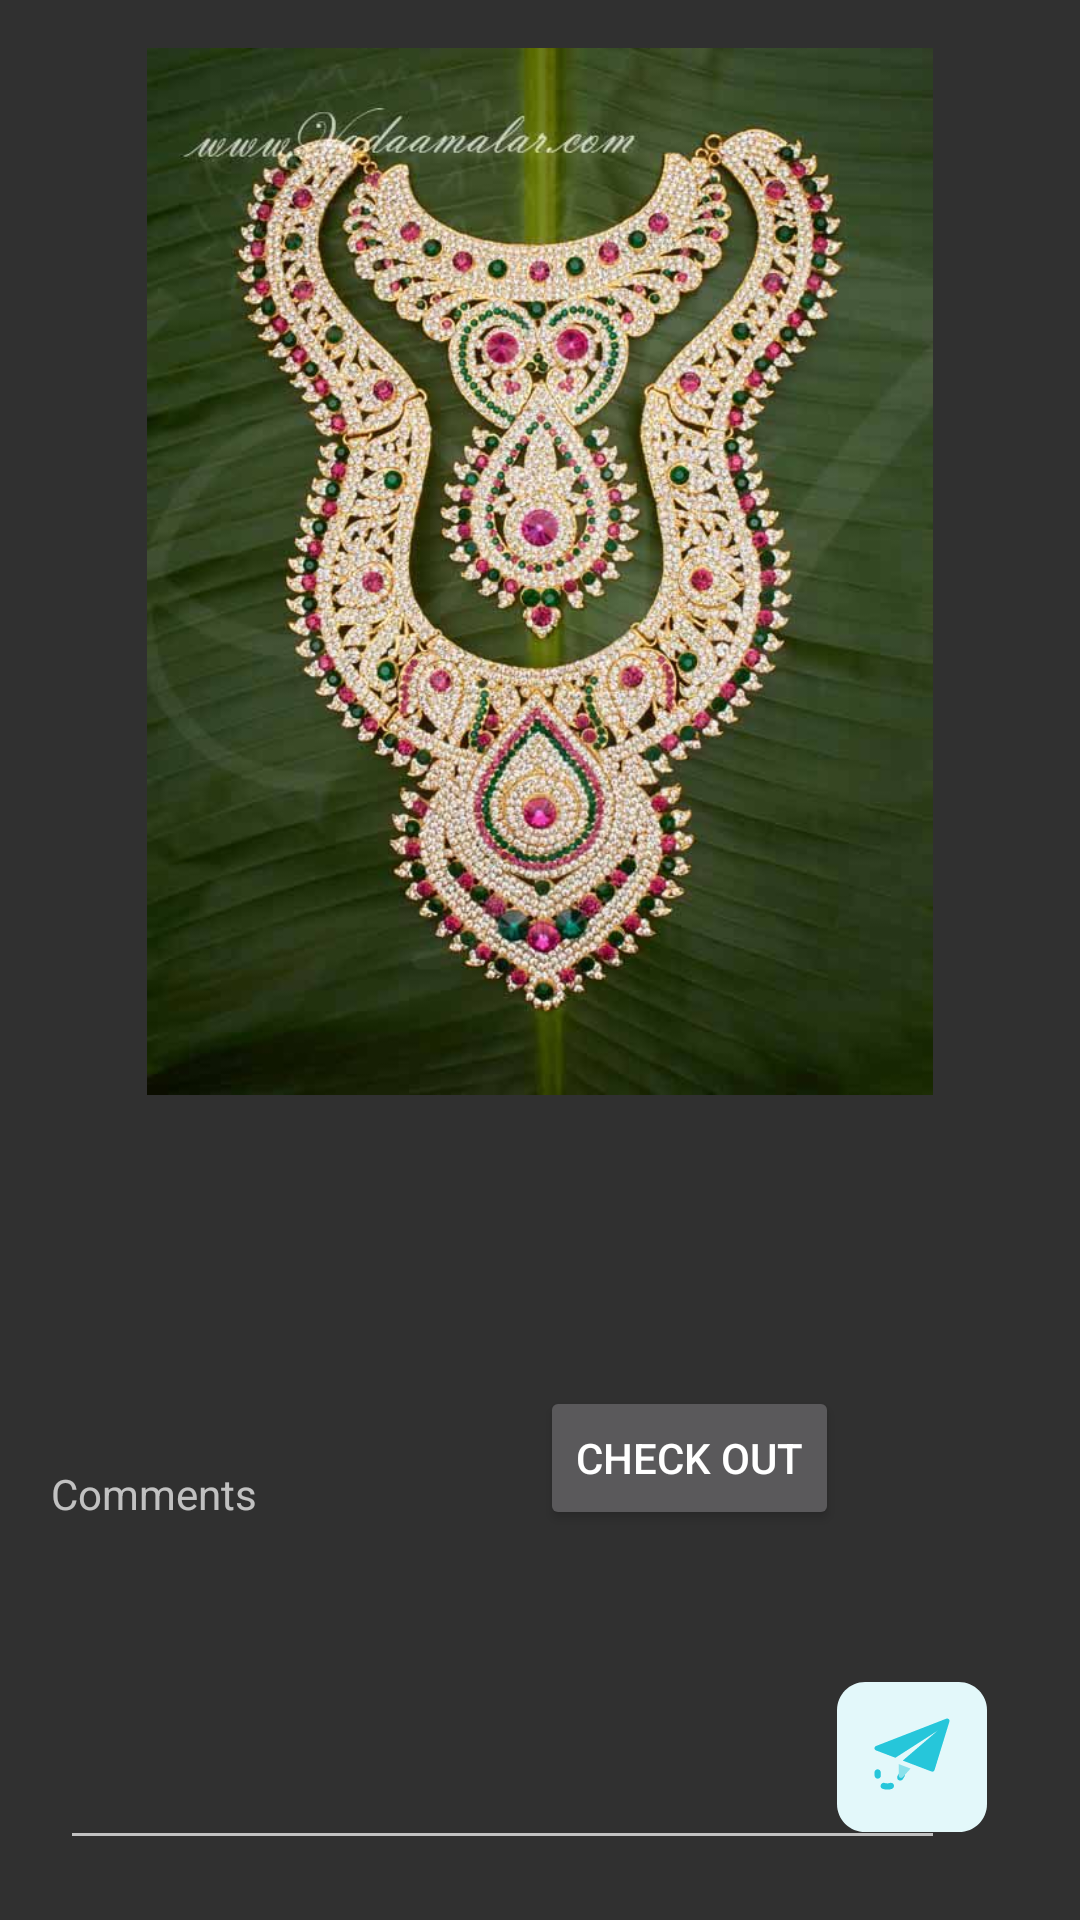

Icons on this 1080 x 1920 Android screen, each with the point to tap as point (x, y):
sendbtn: point (912, 1757)
